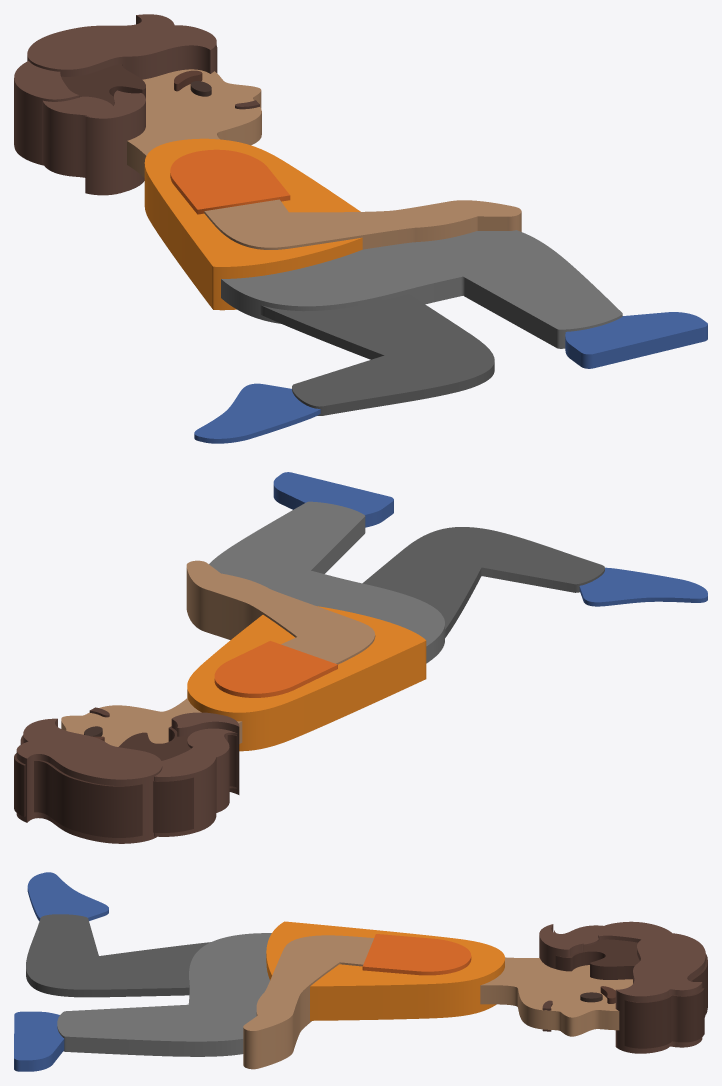
The model's file is emoji_u1f9ce_1f3fd_200d_27a1.glb.
3 views of the same model, one above another, from view 1: azimuth 30°, elevation 25°; view 2: azimuth 150°, elevation 25°; view 3: azimuth 270°, elevation 25° (orthographic). The views are drawn at different scales.
Parts seen in each view (by area): view 1: emoji_u1f9ce_1f3fd_200d_27a1; view 2: emoji_u1f9ce_1f3fd_200d_27a1; view 3: emoji_u1f9ce_1f3fd_200d_27a1.
Boxes of the visible parts, x1,y1,x2,y2 form: emoji_u1f9ce_1f3fd_200d_27a1: (14,14,707,443); emoji_u1f9ce_1f3fd_200d_27a1: (14,472,707,843); emoji_u1f9ce_1f3fd_200d_27a1: (14,872,707,1071).
Size of the model in its own units: 0.0215 by 0.0032 by 0.0329.
